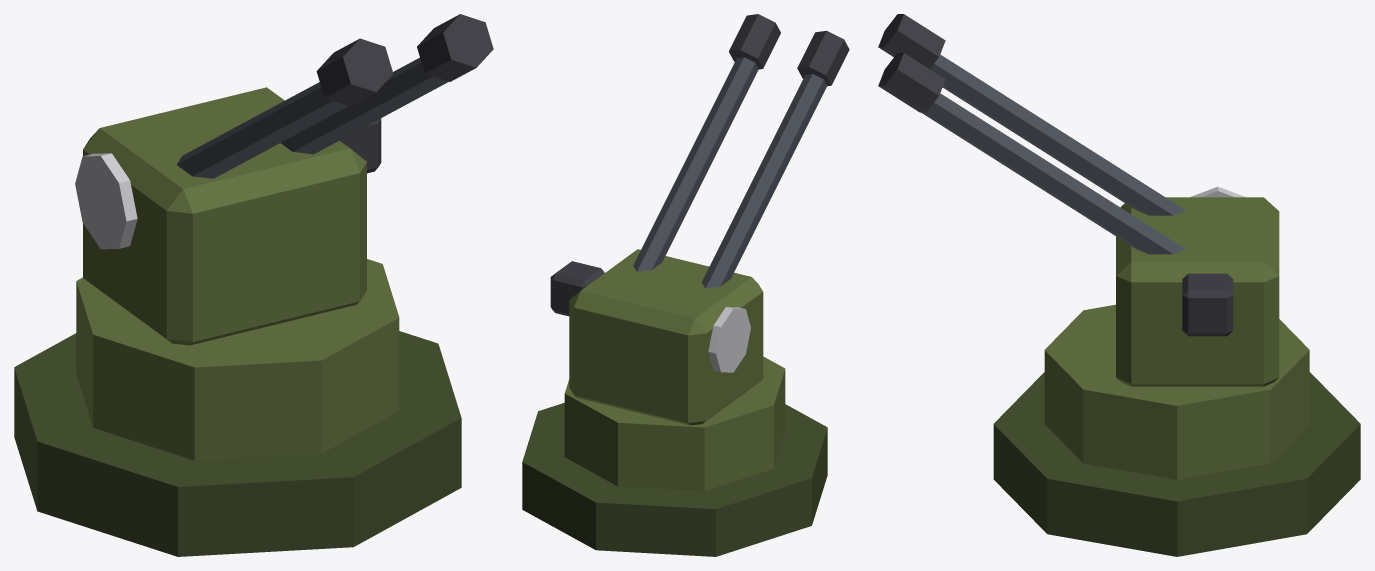
File: AntiAirGun.fbx
The picture shows the model from 3 angles, left to right: view 1: azimuth 30°, elevation 25°; view 2: azimuth 150°, elevation 25°; view 3: azimuth 270°, elevation 25°; orthographic projection. The views are drawn at different scales.
Parts seen in each view (by area): view 1: AntiAirGun_Turret, AntiAirGun; view 2: AntiAirGun_Turret, AntiAirGun; view 3: AntiAirGun_Turret, AntiAirGun.
Part boxes in pixels (box(x1,y1,x2,y2)): AntiAirGun_Turret: box(75, 14, 493, 460); AntiAirGun: box(14, 331, 461, 556); AntiAirGun_Turret: box(550, 14, 849, 491); AntiAirGun: box(522, 402, 827, 556); AntiAirGun_Turret: box(878, 14, 1309, 479); AntiAirGun: box(993, 372, 1360, 556).
Size of the model in its own units: 3.6 by 4.82 by 4.73.
Materials: 1 (1 with a texture image).
